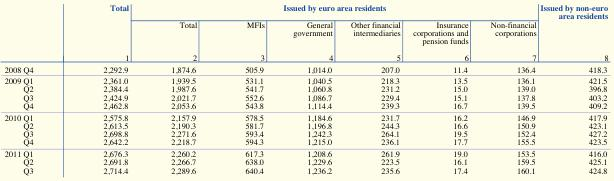table: (3, 4, 607, 174)
table column: (67, 4, 149, 174), (406, 4, 478, 174), (149, 4, 220, 174), (537, 4, 607, 174), (341, 4, 406, 174), (278, 4, 341, 174), (478, 4, 537, 174), (220, 4, 278, 174), (21, 4, 67, 174), (3, 4, 21, 174)
table column header: (3, 4, 607, 63)
table row: (3, 16, 607, 63), (3, 4, 607, 16), (3, 63, 607, 75), (3, 75, 607, 85), (3, 101, 607, 111), (3, 111, 607, 121), (3, 138, 607, 148), (3, 148, 607, 158), (3, 121, 607, 130), (3, 85, 607, 93), (3, 93, 607, 101), (3, 130, 607, 138), (3, 158, 607, 166), (3, 166, 607, 174)
table spanning cell: (67, 4, 149, 63), (149, 4, 537, 16), (537, 4, 607, 63), (3, 111, 21, 148), (3, 75, 21, 111), (3, 148, 21, 174)
